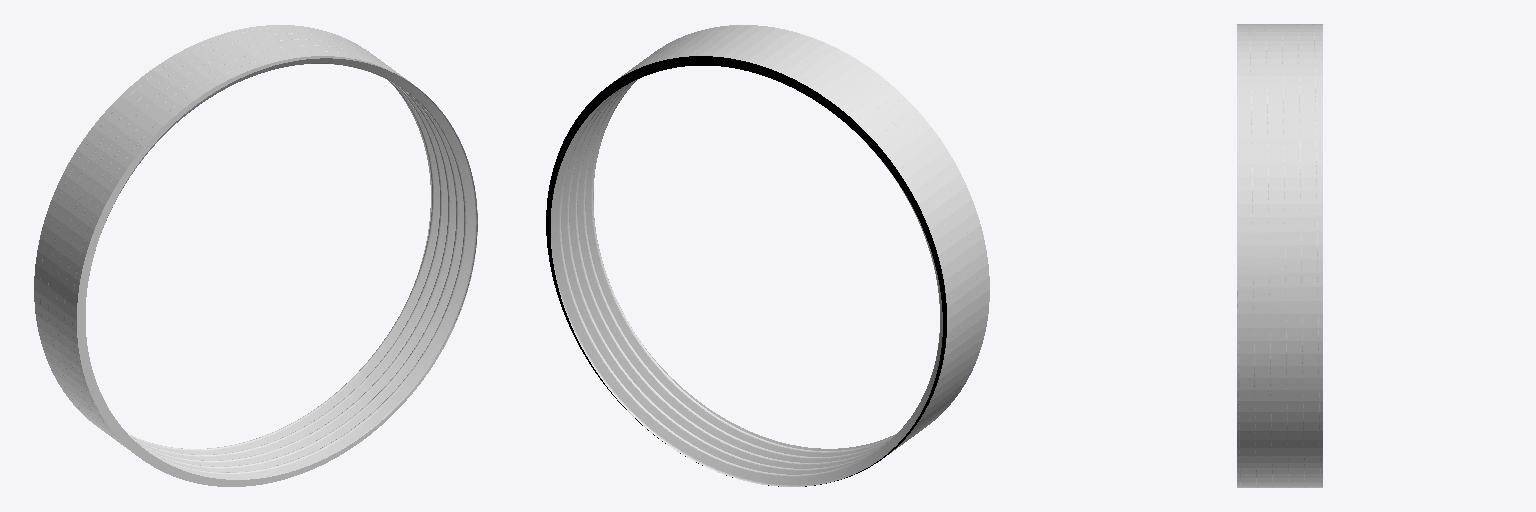
Rendered from RMS-thread-female-1.obj.
3 views of the same model, side by side, from view 1: azimuth 30°, elevation 25°; view 2: azimuth 150°, elevation 25°; view 3: azimuth 270°, elevation 25° (orthographic).
Size of the model in its own units: 2.03 by 2.03 by 0.3739.